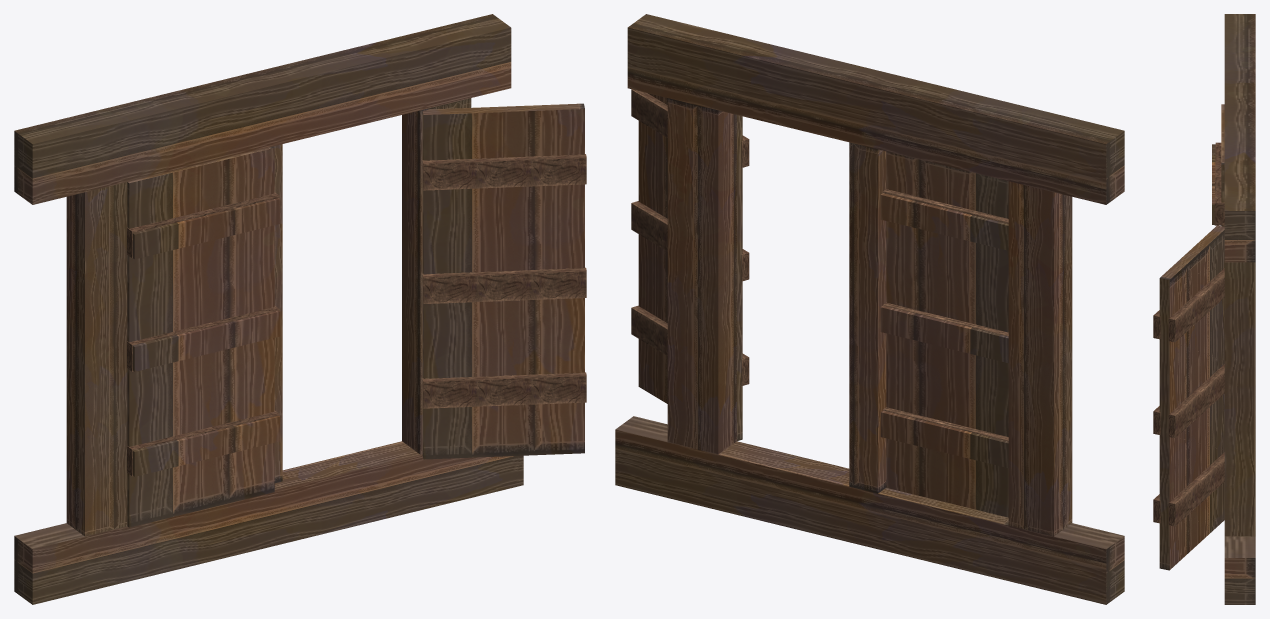
Rendered from SS_win.fbx.
3 views of the same model, side by side, from view 1: azimuth 30°, elevation 25°; view 2: azimuth 150°, elevation 25°; view 3: azimuth 270°, elevation 25° (orthographic). The views are drawn at different scales.
Visible parts, largest first — view 1: Box002; view 2: Box002; view 3: Box002.
Boxes of the visible parts, x1,y1,x2,y2 form: Box002: [14, 14, 586, 604]; Box002: [615, 14, 1124, 604]; Box002: [1153, 14, 1255, 604].
Bounding box in the file's own units: 48.18 × 40.59 × 9.69.
2 materials, 2 textured.
